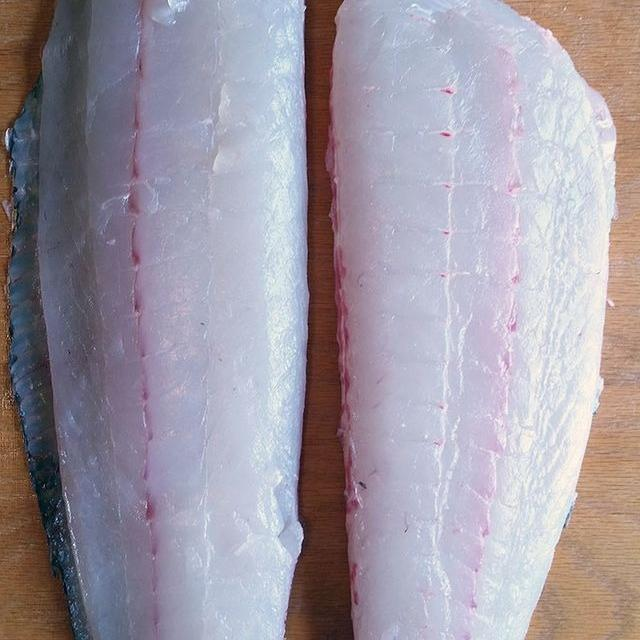fish: (316, 0, 640, 640)
